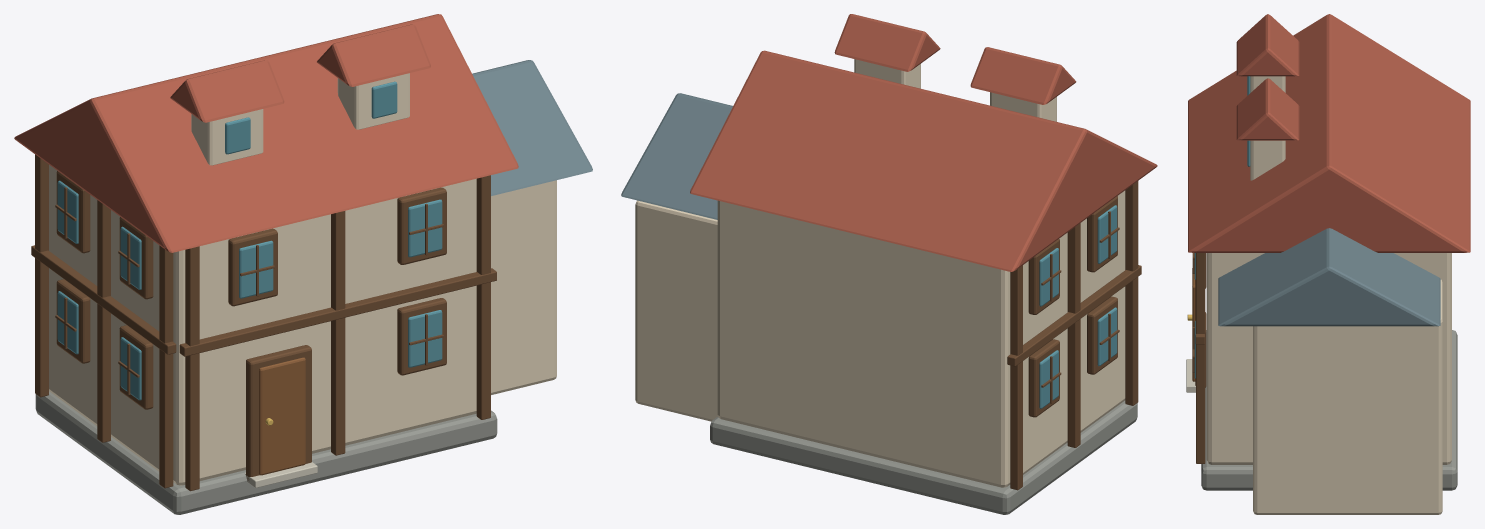
The model's file is temperate-townhouse-1.glb.
3 views of the same model, side by side, from view 1: azimuth 30°, elevation 25°; view 2: azimuth 150°, elevation 25°; view 3: azimuth 270°, elevation 25° (orthographic). The views are drawn at different scales.
Parts seen in each view (by area): view 1: Warm lime, Clay tiles, Dark beams, Foundation stone, Blue glass, Blue slate, Door oak, Cut limestone; view 2: Warm lime, Clay tiles, Dark beams, Foundation stone, Blue slate, Blue glass; view 3: Clay tiles, Warm lime, Blue slate, Foundation stone, Dark beams, Blue glass.
Boxes of the visible parts, x1,y1,x2,y2 form: Warm lime: (49,73,556,485); Clay tiles: (14,14,518,252); Dark beams: (31,154,496,491); Foundation stone: (35,391,497,514); Blue glass: (57,81,442,400); Blue slate: (472,60,592,195); Door oak: (259,357,305,475); Cut limestone: (244,462,317,487); Warm lime: (635,59,1125,487); Clay tiles: (690,14,1157,271); Dark beams: (1007,181,1141,490); Foundation stone: (710,400,1137,514); Blue slate: (621,93,732,219); Blue glass: (1039,205,1117,408); Clay tiles: (1188,14,1470,252); Warm lime: (1206,76,1451,514); Blue slate: (1218,228,1440,326); Foundation stone: (1201,330,1457,490); Dark beams: (1192,253,1206,463); Blue glass: (1194,76,1250,378).
Size of the model in its own units: 4.96 by 4.28 by 3.07.
